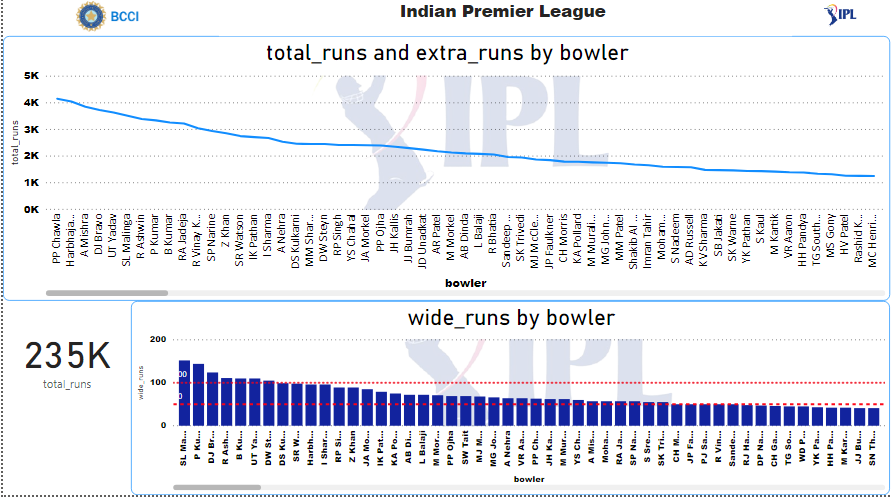

Layout of this report page (visuals, bound fields, positions):
{"tool":"powerbi","page":{"name":"Page 3","canvas":[1280,720],"ordinal":2},"visuals":[{"type":"lineChart","fields":{"Category":["deliveries.bowler"],"Y":["deliveries.total_runs"]},"box":[0,57.7,1279.8,382.4],"z":0},{"type":"image","box":[0,0,300.1,57.7],"z":1000},{"type":"textbox","box":[311.7,0,826.8,57.7],"z":2000},{"type":"image","box":[1138.4,0,141.4,57.7],"z":3000},{"type":"card","fields":{"Values":["deliveries.total_runs"]},"box":[0,450.2,184.7,141.4],"z":4000},{"type":"columnChart","fields":{"Category":["deliveries.bowler"],"Y":["deliveries.wide_runs"]},"box":[184.7,440.1,1095.2,279.9],"z":5000}]}

Visuals, with their boxes in screenshot pixels (x1, y1, x2, y2), scaled from the page's 1280x720 canvas onto the 891x499 screenshot:
lineChart - deliveries.bowler x deliveries.total_runs: <region>0, 40, 890, 305</region>
image: <region>0, 0, 209, 40</region>
textbox: <region>217, 0, 793, 40</region>
image: <region>792, 0, 890, 40</region>
card - deliveries.total_runs: <region>0, 312, 129, 410</region>
columnChart - deliveries.bowler x deliveries.wide_runs: <region>129, 305, 890, 498</region>
